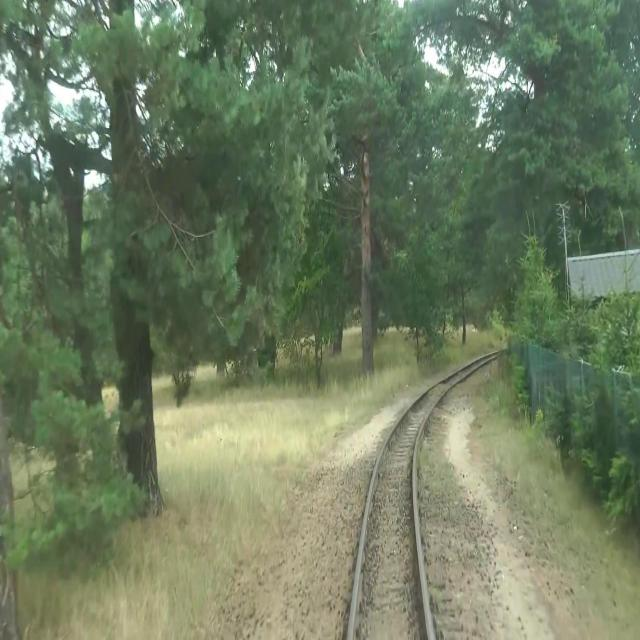rail-track: (353, 365, 473, 639)
